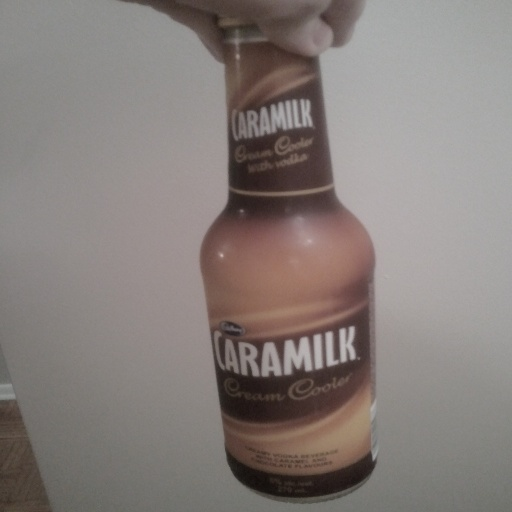hand: (122, 0, 369, 51)
